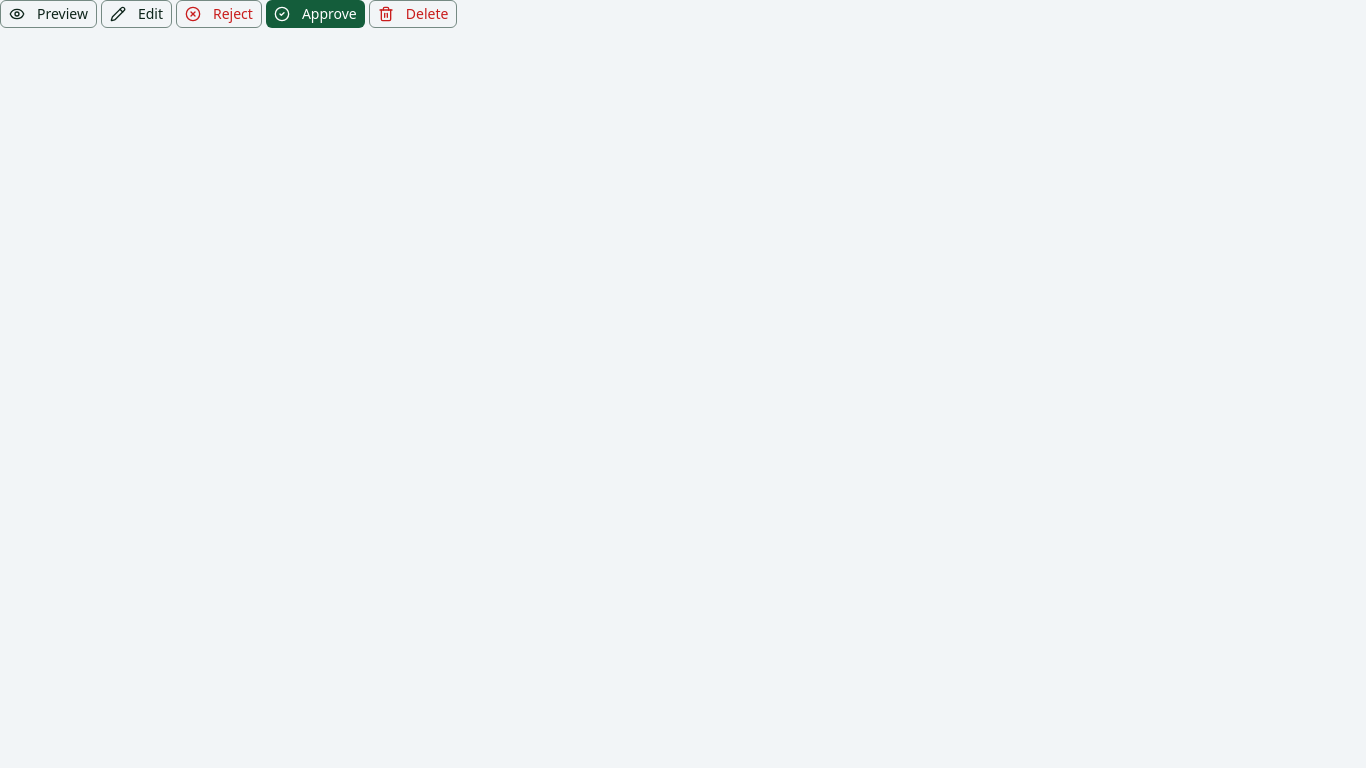
Scenario: staff import approval fails closed › blocks approval while the retirement list is still loading
Click the button "Approve".
click(315, 14)  # box [266, 0, 365, 28]
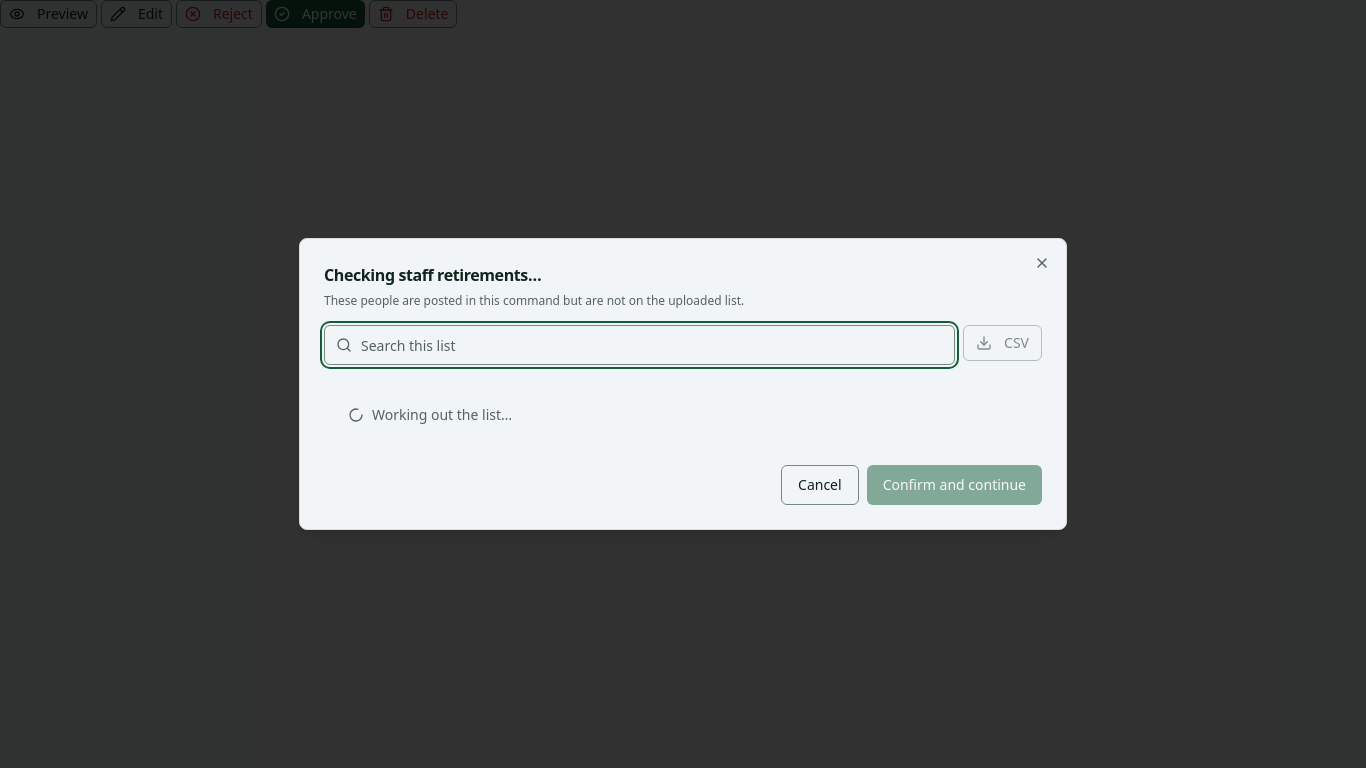
Check: the button "Confirm and continue" is disabled, box [867, 465, 1042, 505]
